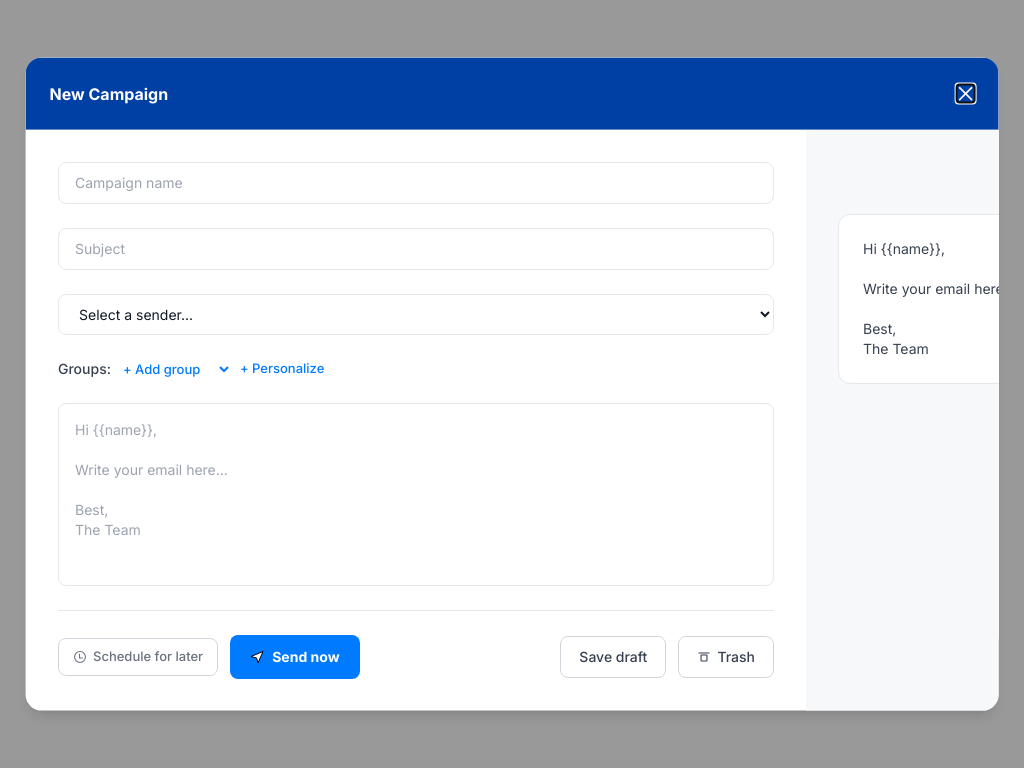
Test: CampaignComposerModal › surfaces a server-side error when Send now fails for a fully valid campaign, and keeps the modal open
The image size is (1024, 768).
Type "Complete Campaign" into the field labelled "Campaign name" at (416, 183), box [58,162,774,204]
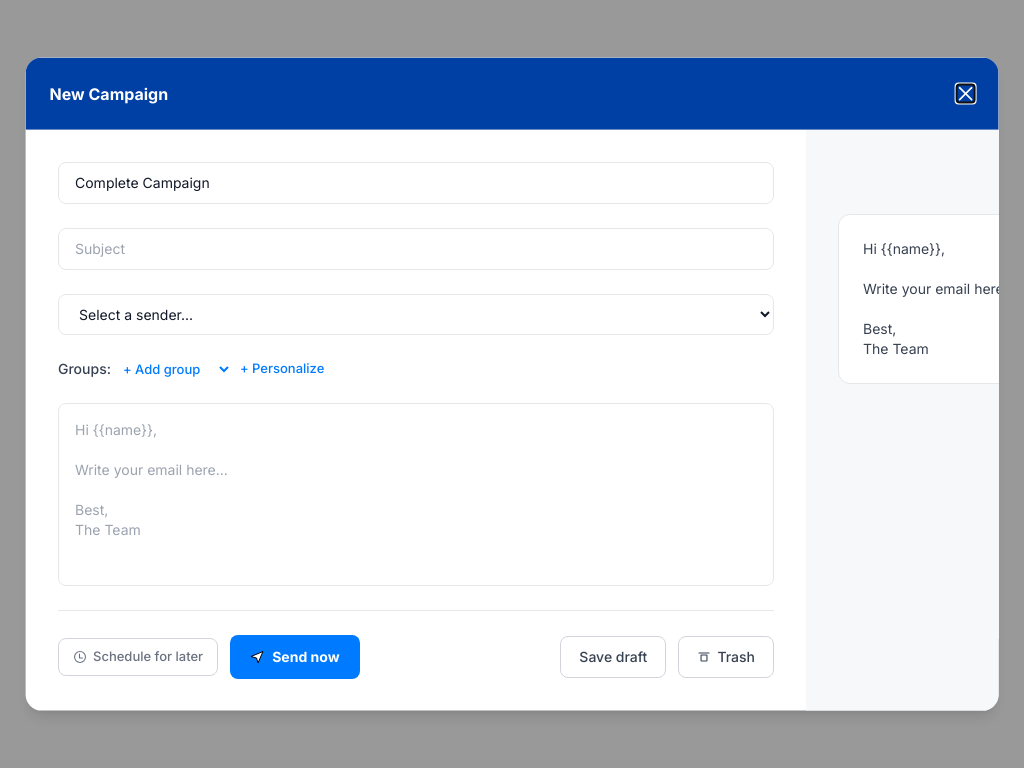
Type "Hello" into the field labelled "Subject" at (416, 249), box [58,228,774,270]
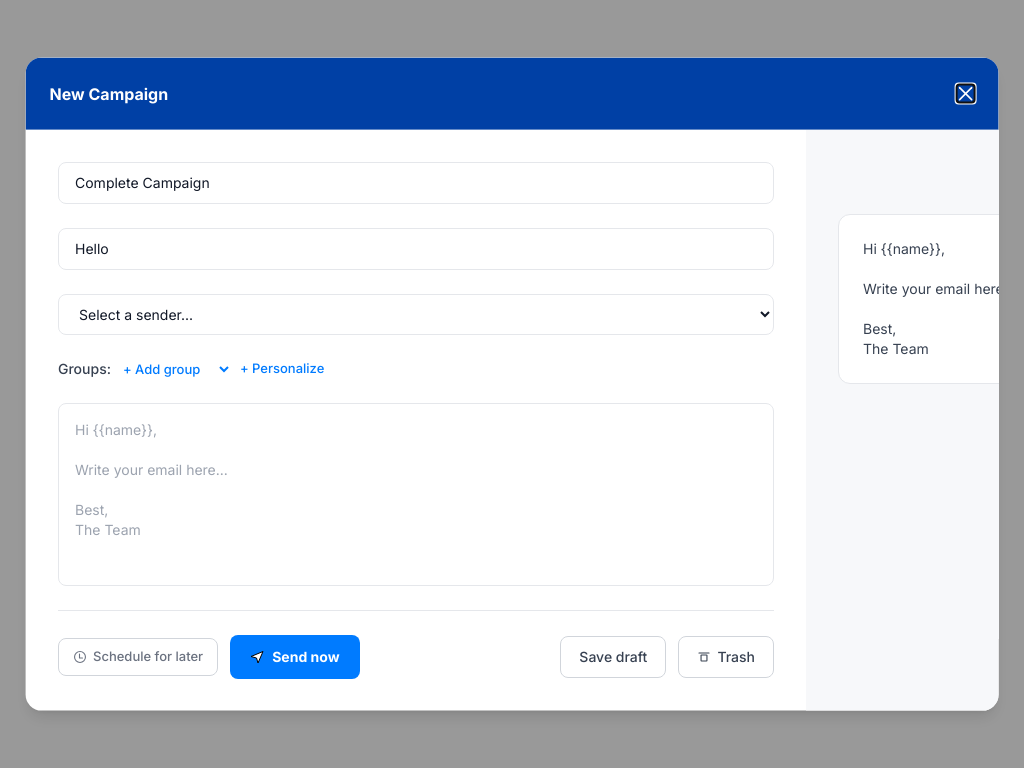
Select "Skillprompt <info@skillprompt.com>" in the dropdown named "Sender" at (416, 314), box [58,294,774,335]
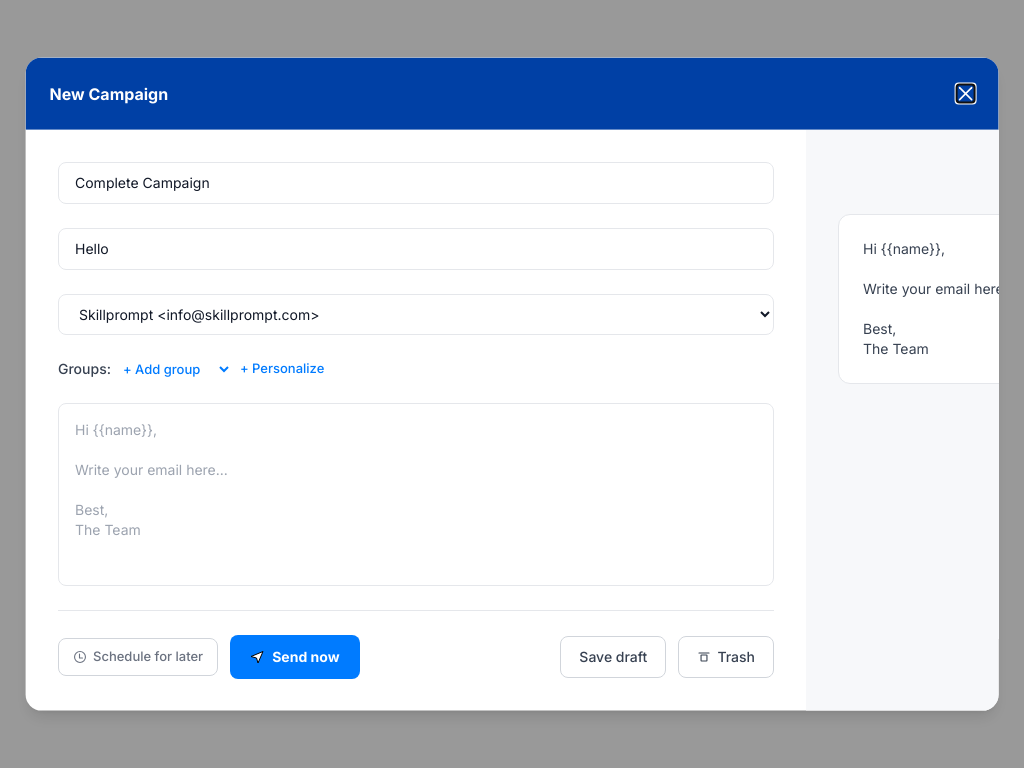
Select "VIP Customers" in the dropdown named "Add group to audience" at (175, 369), box [118,360,232,378]
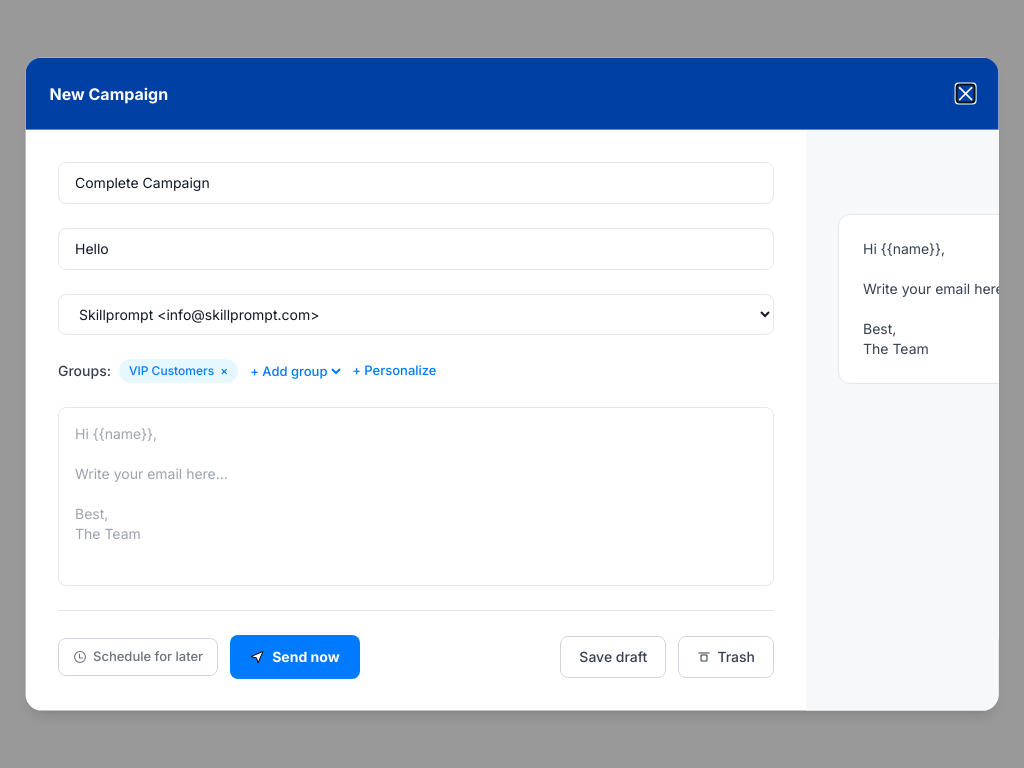
Click the button "Send now" at (294, 656), box [230,634,359,678]
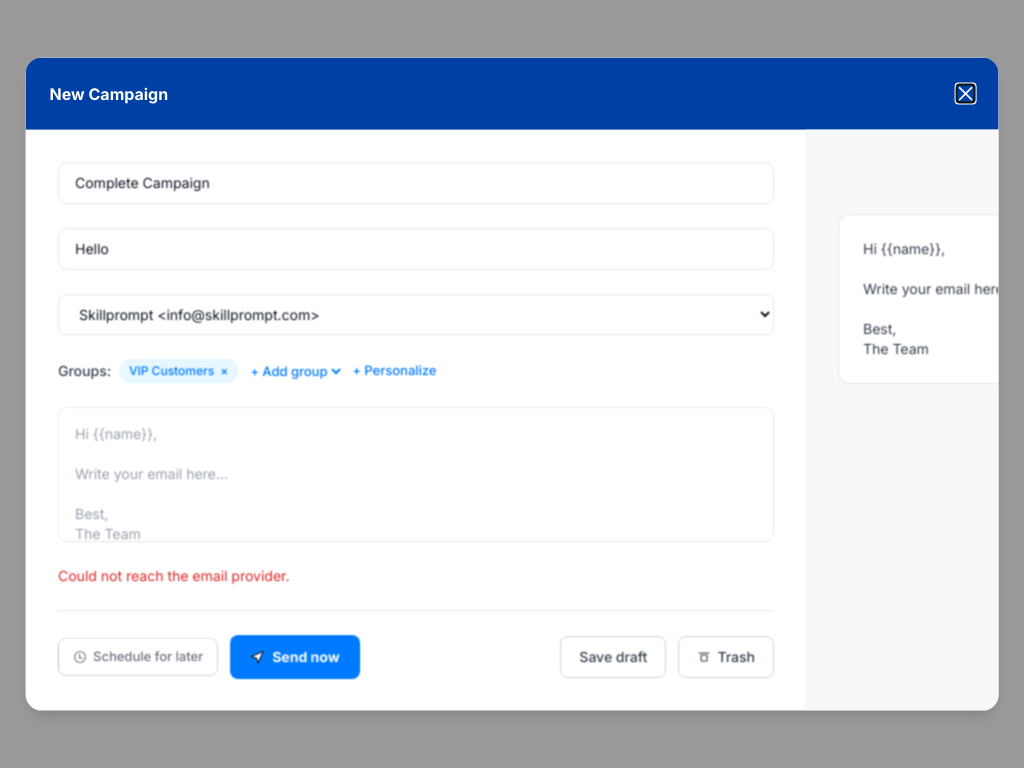
expect the text "Could not reach the email provider." is shown: met, box [58,566,289,583]
